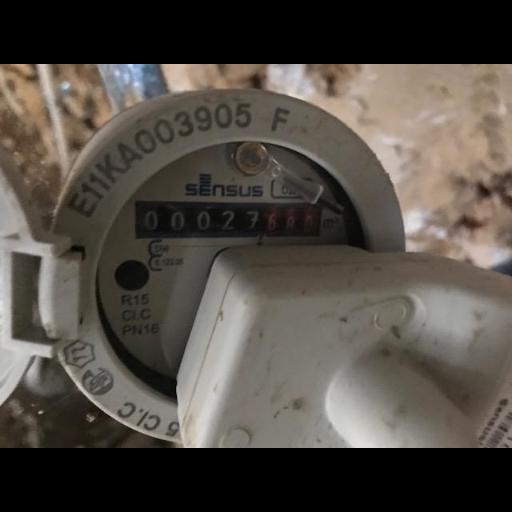0: (135, 201, 165, 239), (164, 200, 192, 238), (191, 201, 217, 239), (299, 202, 321, 236)
2: (216, 202, 242, 238)
6: (263, 203, 283, 237)
7: (240, 202, 264, 238)
8: (282, 202, 302, 237)
border_water_meter_number: (135, 200, 322, 238)
